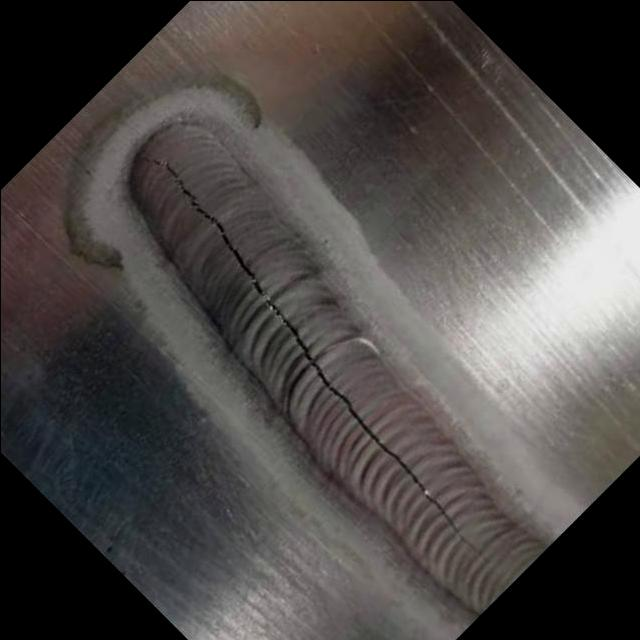defect: (128, 146, 496, 569)
